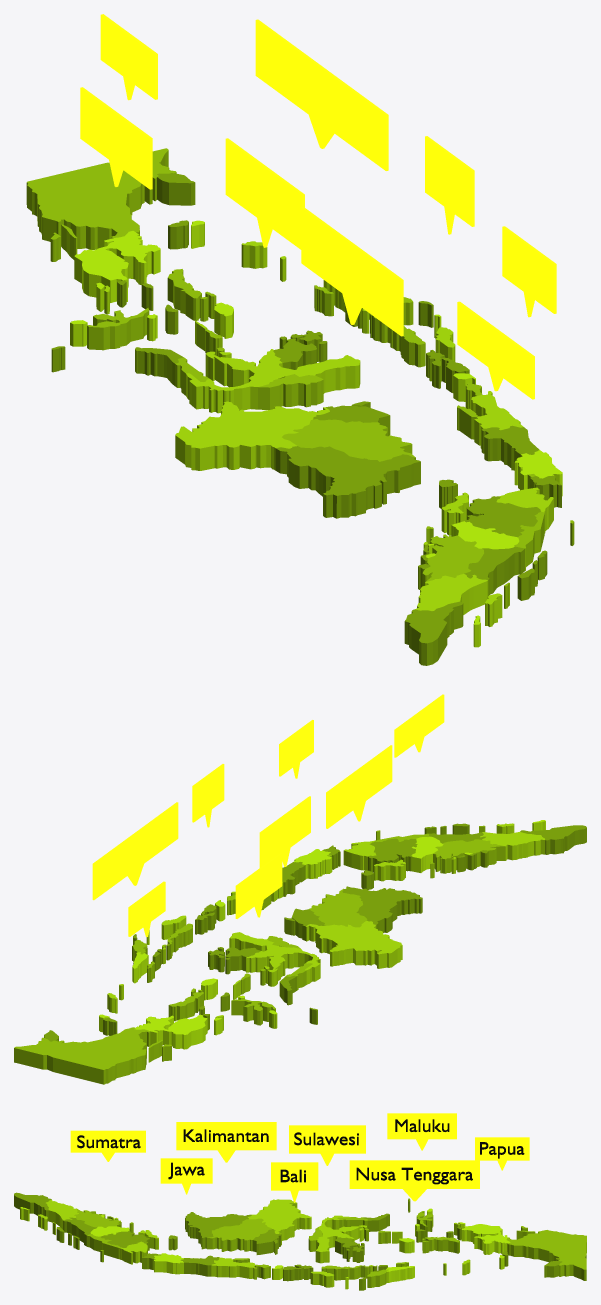
Rendered from petaIndonesia.glb.
The picture shows the model from 3 angles, top to bottom: view 1: azimuth 30°, elevation 25°; view 2: azimuth 150°, elevation 25°; view 3: azimuth 270°, elevation 25°; orthographic projection. The views are drawn at different scales.
Parts seen in each view (by area): view 1: Cube.005, Plane.082, Plane.046, Plane.047, Cube.002, Cube.003, Cube.006, Plane.076, Cube, Plane.052, Plane.048, Cube.004 (+23 smaller); view 2: Plane.082, Cube.005, Plane.047, Cube.002, Plane.046, Cube.003, Cube.006, Plane.052, Plane.076, Cube, Plane.002, Plane.048 (+17 smaller); view 3: Cube.005, Cube.002, Plane.082, Cube.003, Cube.006, Cube, Plane.047, Plane.048, Cube.004, Cube.001, Cube.007, Plane.046 (+31 smaller).
Part boxes in pixels (left/top/right/bottom): Cube.005: left=255, top=19, right=388, bottom=170; Plane.082: left=26, top=148, right=176, bottom=249; Plane.046: left=275, top=446, right=420, bottom=518; Plane.047: left=175, top=401, right=329, bottom=470; Cube.002: left=301, top=207, right=403, bottom=336; Cube.003: left=225, top=138, right=304, bottom=249; Cube.006: left=80, top=87, right=152, bottom=189; Plane.076: left=74, top=231, right=160, bottom=302; Cube: left=457, top=301, right=534, bottom=399; Plane.052: left=186, top=349, right=276, bottom=413; Plane.048: left=282, top=419, right=415, bottom=461; Cube.004: left=425, top=136, right=474, bottom=234; Plane.082: left=14, top=1027, right=150, bottom=1084; Cube.005: left=92, top=802, right=178, bottom=900; Plane.047: left=306, top=920, right=402, bottom=968; Cube.002: left=326, top=745, right=392, bottom=828; Plane.046: left=342, top=886, right=422, bottom=933; Cube.003: left=259, top=796, right=310, bottom=867; Cube.006: left=235, top=853, right=282, bottom=918; Plane.052: left=246, top=947, right=320, bottom=986; Plane.076: left=134, top=1014, right=207, bottom=1049; Cube: left=394, top=694, right=444, bottom=757; Plane.002: left=433, top=839, right=505, bottom=873; Plane.048: left=309, top=889, right=367, bottom=927; Cube.005: left=349, top=1160, right=479, bottom=1201; Cube.002: left=176, top=1122, right=276, bottom=1162; Plane.082: left=506, top=1230, right=586, bottom=1280; Cube.003: left=289, top=1125, right=365, bottom=1165; Cube.006: left=387, top=1113, right=456, bottom=1150; Cube: left=70, top=1130, right=145, bottom=1161; Plane.047: left=248, top=1199, right=311, bottom=1244; Plane.048: left=207, top=1218, right=271, bottom=1251; Cube.004: left=271, top=1162, right=318, bottom=1202; Cube.001: left=160, top=1158, right=212, bottom=1194; Cube.007: left=475, top=1137, right=529, bottom=1170; Plane.046: left=185, top=1212, right=251, bottom=1249.
Size of the model in its own units: 10.14 by 6.35 by 28.32.
